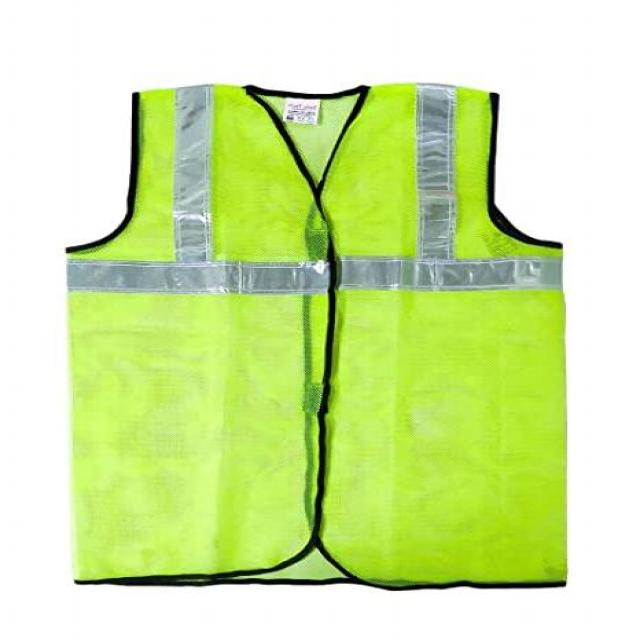Reflective-Jacket: (18, 46, 617, 614)
